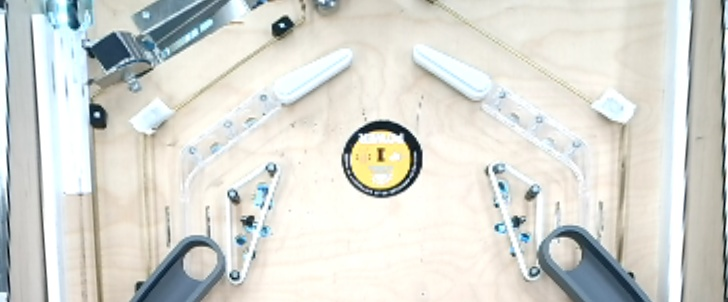ball: (311, 0, 342, 17)
flipper-left: (407, 40, 496, 106)
flipper-right: (268, 44, 355, 106)
